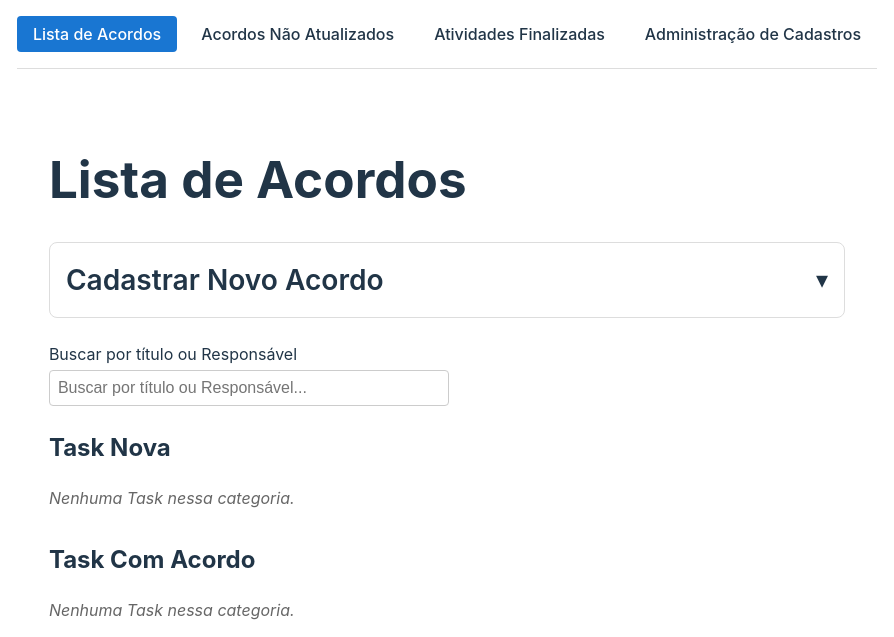
Test: project setup › navega para os Acordos Não Atualizados e de volta para a Lista de Acordos
The width and height of the screenshot is (894, 637).
Expected: the heading "Lista de Acordos" is shown, [49,148,467,210]
What coordinates should you click on to do the following:
click the button with test id "nav-acordos-nao-atualizados"
I would click on:
 (298, 34)
Its box is [185,16,410,52].
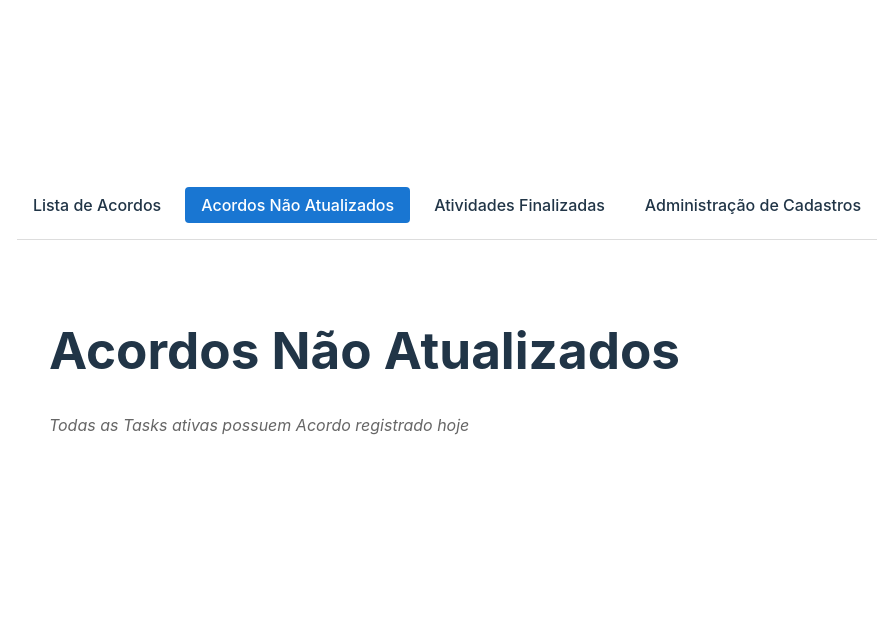
Expected: the heading "Acordos Não Atualizados" is shown, [49,319,680,381]
What coordinates should you click on to do the following:
click the button with test id "nav-lista-de-acordos"
I would click on:
 (97, 205)
Its box is [17,187,177,223].
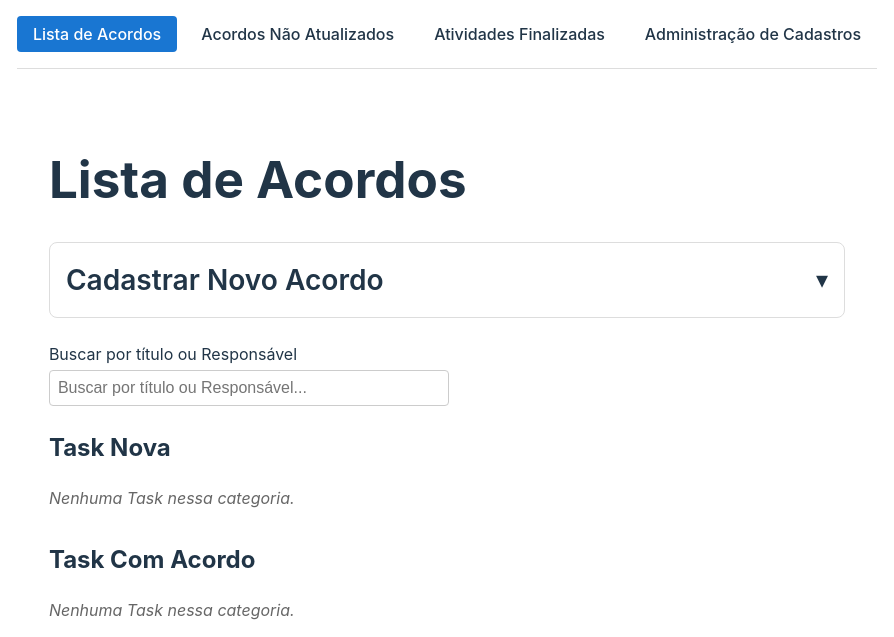
Expected: the heading "Lista de Acordos" is shown, [49,148,467,210]
